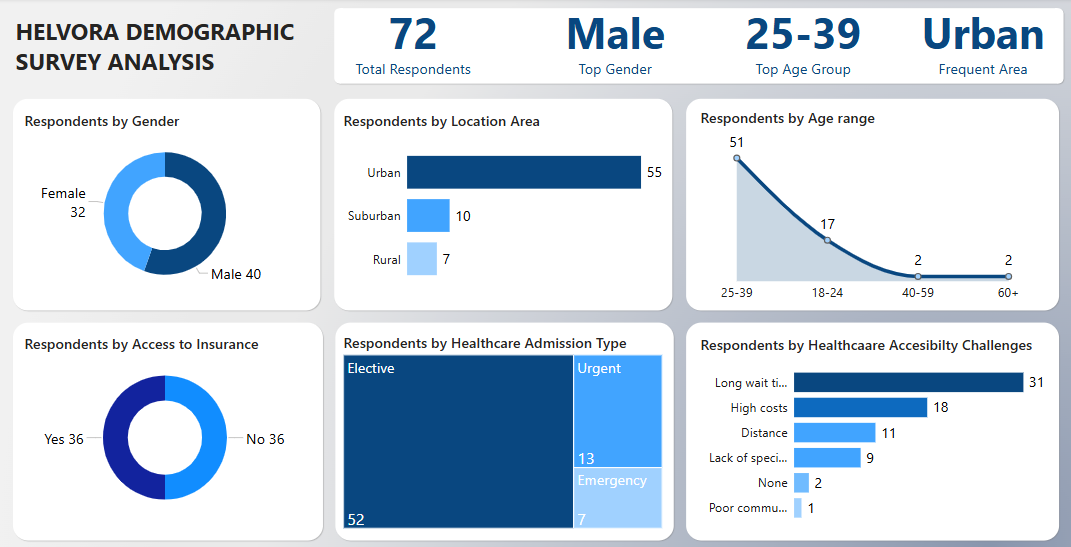

What the dashboard file says about the page in this screenshot:
{"tool":"powerbi","page":{"name":"Demographic","canvas":[1500,770],"ordinal":0},"visuals":[{"type":"textbox","box":[16.1,17.7,429,100],"z":7000},{"type":"card","fields":{"Values":["All Measures.Total Respondents"]},"box":[441.9,0.7,271.5,117.7],"z":8000,"group":"g1"},{"type":"donutChart","title":"Respondents by Gender","fields":{"Category":["Survey Data.Gender"],"Y":["CountNonNull(Survey Data.Respondents)"]},"box":[29,156.5,403.2,262.9],"z":8000},{"type":"card","fields":{"Values":["All Measures.Top Gender"]},"box":[724.9,0,271.5,117.7],"z":9000,"group":"g1"},{"type":"lineChart","title":"Respondents by Age range","fields":{"Category":["Survey Data.Age range"],"Y":["CountNonNull(Survey Data.Respondents)"]},"box":[975.8,152.6,492.8,281.4],"z":9000},{"type":"card","fields":{"Values":["All Measures.Top Age Group"]},"box":[984.9,0.7,278,117.7],"z":10000,"group":"g1"},{"type":"barChart","title":"Respondents by Location Area","fields":{"Y":["CountNonNull(Survey Data.Respondents)"],"Category":["Survey Data.Location Area"]},"box":[476,156.8,456.4,263.2],"z":10000},{"type":"card","fields":{"Values":["All Measures.Top Area"]},"box":[1262.9,0.7,227.3,117.7],"z":11000,"group":"g1"},{"type":"treemap","title":"Respondents by Healthcare Admission Type","fields":{"Group":["Survey Data.Healthcare Admission Type"],"Values":["CountNonNull(Survey Data.Respondents)"]},"box":[476,467.6,456.4,280],"z":11000},{"type":"donutChart","title":"Respondents by Access to Insurance","fields":{"Category":["Survey Data.Access to Insurance Provider"],"Y":["CountNonNull(Survey Data.Respondents)"]},"box":[29.4,469,403.2,266],"z":12000},{"type":"clusteredBarChart","title":"Respondents by Healthcaare Accesibilty Challenges","fields":{"Category":["Survey Data.Healthcaare Accesibilty Challenges"],"Y":["CountNonNull(Survey Data.Respondents)"]},"box":[975.8,470.4,492.8,277.2],"z":13000},{"type":"group","id":"g1","title":"Group 1","box":[441.9,0,1048.4,117.7],"z":14000}]}

Visuals, with their boxes in screenshot pixels (x1, y1, x2, y2), scaled from the page's 1500x770 canvas onto the 1071x547 screenshot:
textbox: {"x1": 11, "y1": 13, "x2": 318, "y2": 84}
card - All Measures.Total Respondents: {"x1": 316, "y1": 0, "x2": 509, "y2": 84}
"Respondents by Gender" donutChart: {"x1": 21, "y1": 111, "x2": 309, "y2": 298}
card - All Measures.Top Gender: {"x1": 518, "y1": 0, "x2": 711, "y2": 84}
"Respondents by Age range" lineChart: {"x1": 697, "y1": 108, "x2": 1049, "y2": 308}
card - All Measures.Top Age Group: {"x1": 703, "y1": 0, "x2": 902, "y2": 84}
"Respondents by Location Area" barChart: {"x1": 340, "y1": 111, "x2": 666, "y2": 298}
card - All Measures.Top Area: {"x1": 902, "y1": 0, "x2": 1064, "y2": 84}
"Respondents by Healthcare Admission Type" treemap: {"x1": 340, "y1": 332, "x2": 666, "y2": 531}
"Respondents by Access to Insurance" donutChart: {"x1": 21, "y1": 333, "x2": 309, "y2": 522}
"Respondents by Healthcaare Accesibilty Challenges" clusteredBarChart: {"x1": 697, "y1": 334, "x2": 1049, "y2": 531}
"Group 1" group: {"x1": 316, "y1": 0, "x2": 1064, "y2": 84}
